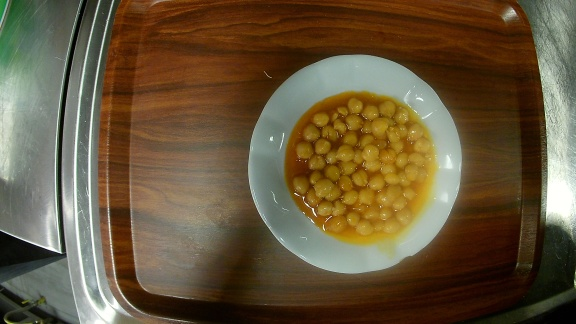sulunohut: (246, 54, 463, 274)
